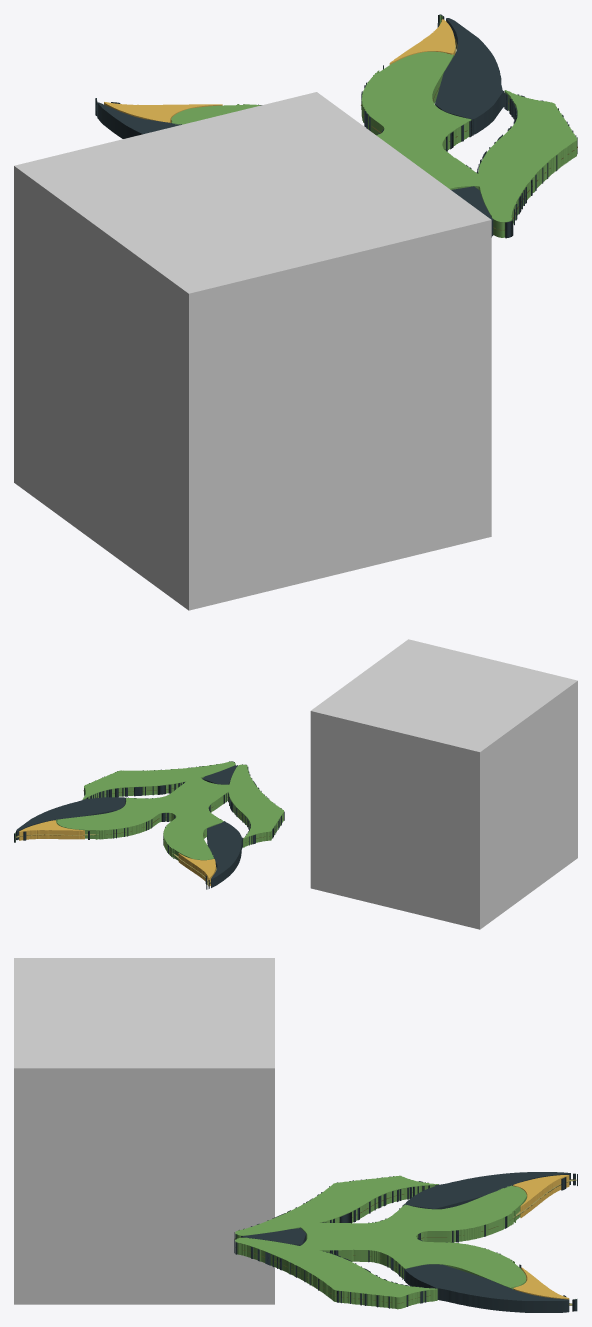
File: patriuz.glb
3 renders of one model, top to bottom at view 1: azimuth 30°, elevation 25°; view 2: azimuth 150°, elevation 25°; view 3: azimuth 270°, elevation 25°, orthographic. The views are drawn at different scales.
Parts seen in each view (by area): view 1: Cube, path1, path0, path2; view 2: Cube, path1, path0, path2; view 3: Cube, path1, path0, path2.
Boxes of the visible parts, bbox=[...] form: Cube: bbox=[14, 92, 491, 610]; path1: bbox=[171, 15, 577, 237]; path0: bbox=[95, 14, 577, 238]; path2: bbox=[104, 19, 455, 122]; Cube: bbox=[310, 639, 577, 929]; path1: bbox=[15, 761, 283, 860]; path0: bbox=[14, 761, 284, 889]; path2: bbox=[19, 820, 215, 886]; Cube: bbox=[14, 958, 274, 1304]; path1: bbox=[235, 1175, 526, 1309]; path0: bbox=[234, 1172, 577, 1312]; path2: bbox=[513, 1175, 569, 1299].
Size of the model in its own units: 4.18 by 2 by 4.32.
